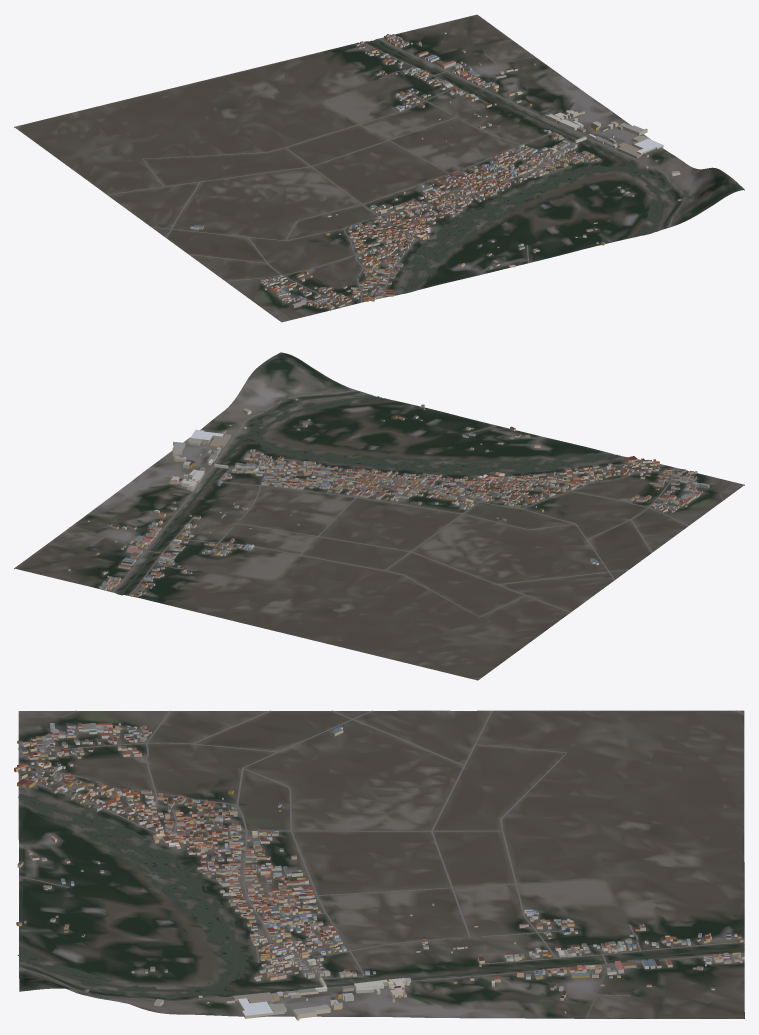
The picture shows the model from 3 angles, top to bottom: view 1: azimuth 30°, elevation 25°; view 2: azimuth 150°, elevation 25°; view 3: azimuth 270°, elevation 25°; orthographic projection. The views are drawn at different scales.
Visible parts, largest first — view 1: ground, buildings, water, roads; view 2: ground, buildings, water, roads; view 3: ground, buildings, water, roads.
Part boxes in pixels (x1,y1,x2,y2): ground: (14,14,744,322); buildings: (190,32,681,310); water: (370,40,672,294); roads: (16,38,684,320); ground: (14,352,744,680); buildings: (68,398,709,596); water: (120,394,620,594); roads: (69,390,735,679); ground: (18,710,744,1018); buildings: (14,723,744,1020); water: (17,789,744,997); roads: (18,710,744,1018).
Size of the model in its own units: 1422 by 70.8 by 1412.
